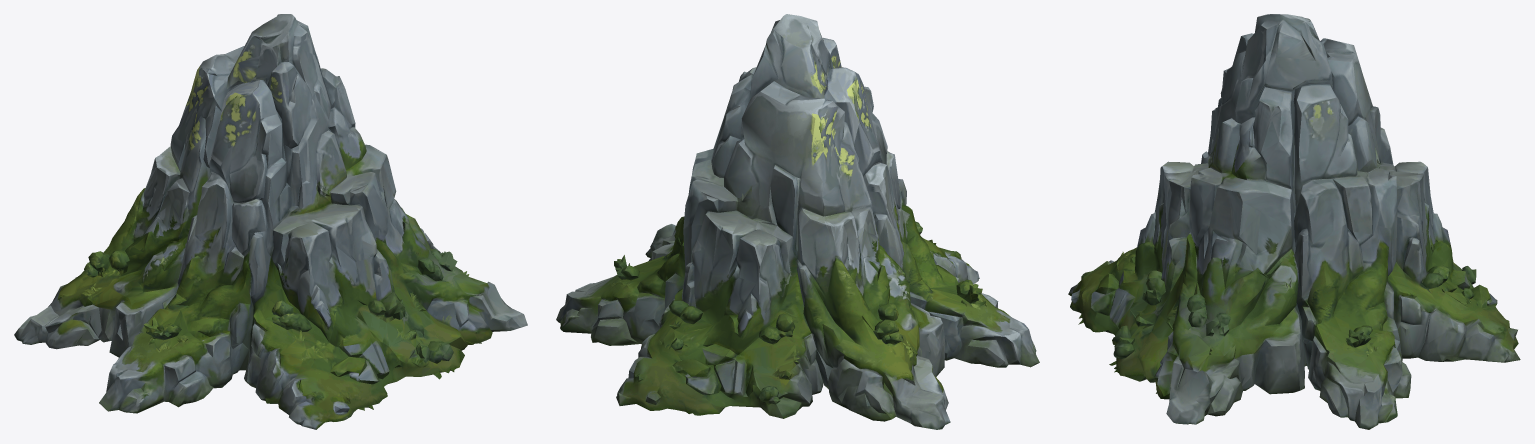
3 renders of one model, left to right at view 1: azimuth 30°, elevation 25°; view 2: azimuth 150°, elevation 25°; view 3: azimuth 270°, elevation 25°, orthographic.
Visible parts, largest first — view 1: mountain_peak; view 2: mountain_peak; view 3: mountain_peak.
Boxes of the visible parts, x1,y1,x2,y2 form: mountain_peak: (14, 14, 527, 429); mountain_peak: (556, 14, 1039, 429); mountain_peak: (1068, 14, 1520, 429).
Size of the model in its own units: 0.9793 by 0.7307 by 0.924.
1 material, 1 textured.
